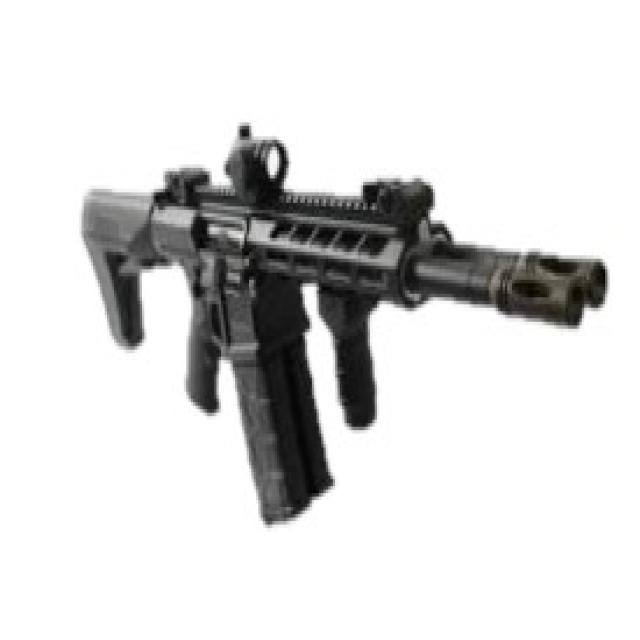rifle: (75, 110, 617, 546)
